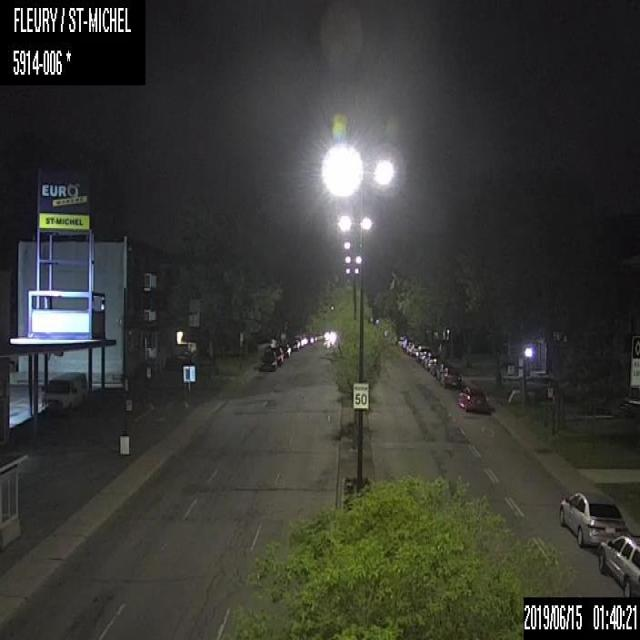vehicle: (559, 487, 629, 553), (597, 534, 639, 594), (41, 369, 87, 411), (459, 386, 489, 412), (440, 365, 462, 391), (258, 346, 278, 371), (272, 343, 282, 364)
